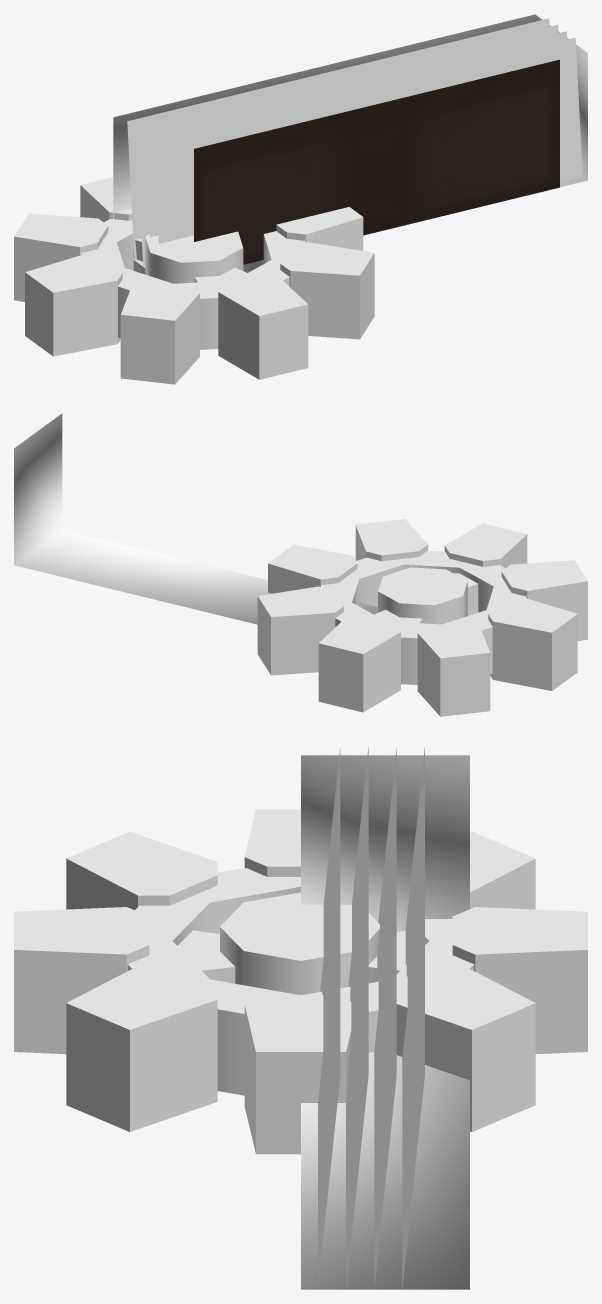
Rendered from roof_gear_6x2.glb.
The picture shows the model from 3 angles, top to bottom: view 1: azimuth 30°, elevation 25°; view 2: azimuth 150°, elevation 25°; view 3: azimuth 270°, elevation 25°; orthographic projection. The views are drawn at different scales.
Visible parts, largest first — view 1: rsrc.world.tileset.clockworks_shock.wall.roof_gear_6x2-MeshN (×3), rsrc.world.prop.clockworks.gears.1unit_teeth.parts.08teeth-M (×4); view 2: rsrc.world.prop.clockworks.gears.1unit_teeth.parts.08teeth-M (×4), rsrc.world.tileset.clockworks_shock.wall.roof_gear_6x2-MeshN; view 3: rsrc.world.prop.clockworks.gears.1unit_teeth.parts.08teeth-M (×4), rsrc.world.tileset.clockworks_shock.wall.roof_gear_6x2-MeshN (×2).
Boxes of the visible parts, x1=… form: rsrc.world.tileset.clockworks_shock.wall.roof_gear_6x2-MeshN (×3): x1=113, y1=14, x2=587, y2=267; rsrc.world.prop.clockworks.gears.1unit_teeth.parts.08teeth-M (×4): x1=14, y1=177, x2=374, y2=384; rsrc.world.prop.clockworks.gears.1unit_teeth.parts.08teeth-M (×4): x1=257, y1=519, x2=587, y2=716; rsrc.world.tileset.clockworks_shock.wall.roof_gear_6x2-MeshN: x1=14, y1=413, x2=377, y2=624; rsrc.world.prop.clockworks.gears.1unit_teeth.parts.08teeth-M (×4): x1=14, y1=809, x2=587, y2=1154; rsrc.world.tileset.clockworks_shock.wall.roof_gear_6x2-MeshN (×2): x1=301, y1=746, x2=469, y2=1289.
Bounding box in the file's own units: 9.01 × 2.64 × 5.09.
Materials: 6 (1 with a texture image).
